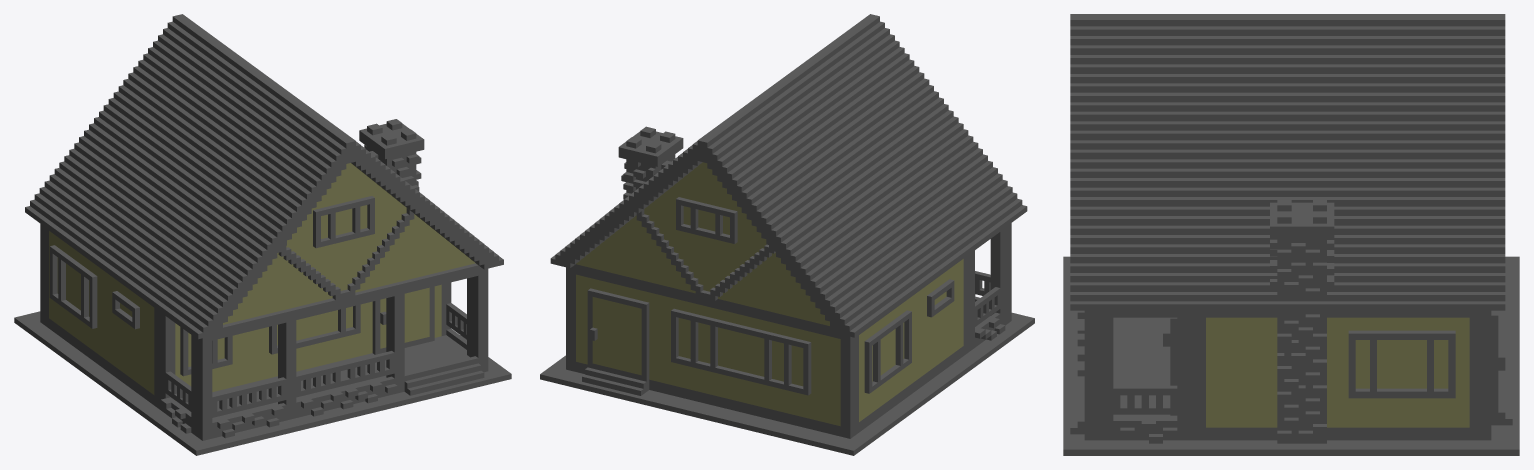
Rendered from bld_house3.obj.
3 views of the same model, side by side, from view 1: azimuth 30°, elevation 25°; view 2: azimuth 150°, elevation 25°; view 3: azimuth 270°, elevation 25° (orthographic). The views are drawn at different scales.
Size of the model in its own units: 64 by 53 by 64.
